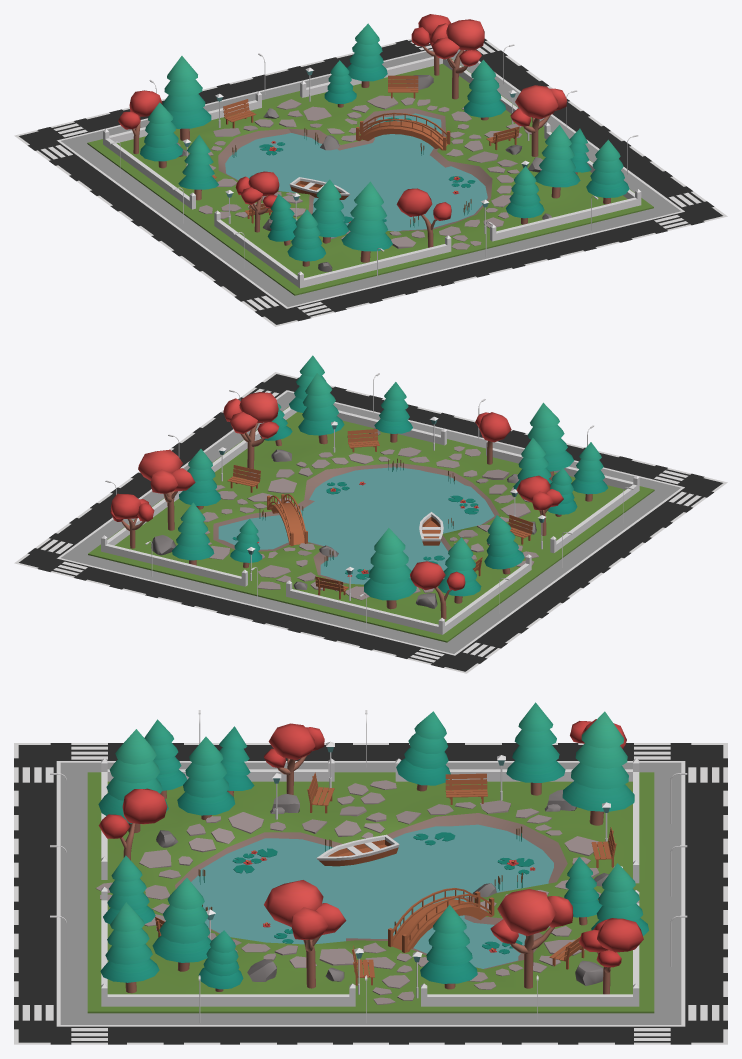
Rendered from ParkArea_Upgrade.fbx.
3 renders of one model, top to bottom at view 1: azimuth 30°, elevation 25°; view 2: azimuth 150°, elevation 25°; view 3: azimuth 270°, elevation 25°, orthographic. The views are drawn at different scales.
Parts seen in each view (by area): view 1: ParkArea_Upgrade; view 2: ParkArea_Upgrade; view 3: ParkArea_Upgrade.
Part boxes in pixels (box(x1,y1,x2,y2)): ParkArea_Upgrade: box(14, 14, 727, 326); ParkArea_Upgrade: box(14, 355, 727, 673); ParkArea_Upgrade: box(14, 702, 727, 1044).
Size of the model in its own units: 1000 by 193 by 1000.
Materials: 1 (1 with a texture image).
